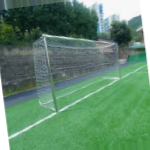goals: (31, 31, 122, 114)
